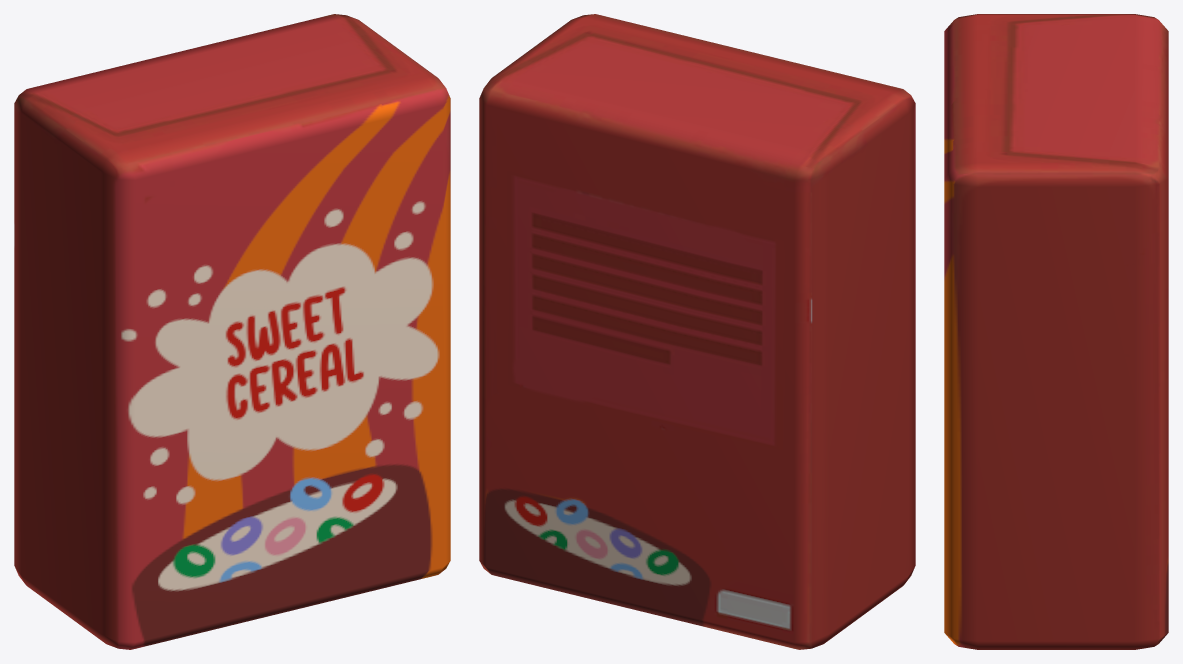
File: cereal.fbx
3 views of the same model, side by side, from view 1: azimuth 30°, elevation 25°; view 2: azimuth 150°, elevation 25°; view 3: azimuth 270°, elevation 25° (orthographic).
Visible parts, largest first — view 1: cereal; view 2: cereal; view 3: cereal.
Boxes of the visible parts, <box> form: cereal: <box>14,14,450,649</box>; cereal: <box>479,14,915,649</box>; cereal: <box>944,14,1168,649</box>.
Bounding box in the file's own units: 63.65 × 87.73 × 36.7.
